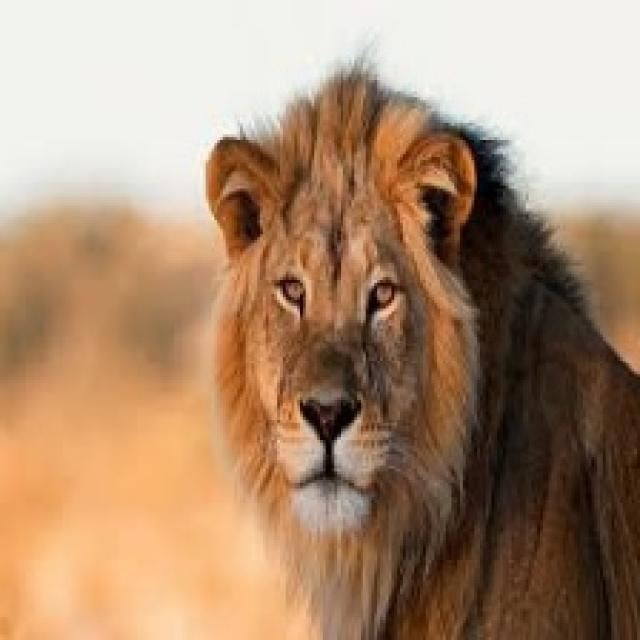animal: (192, 124, 620, 640)
